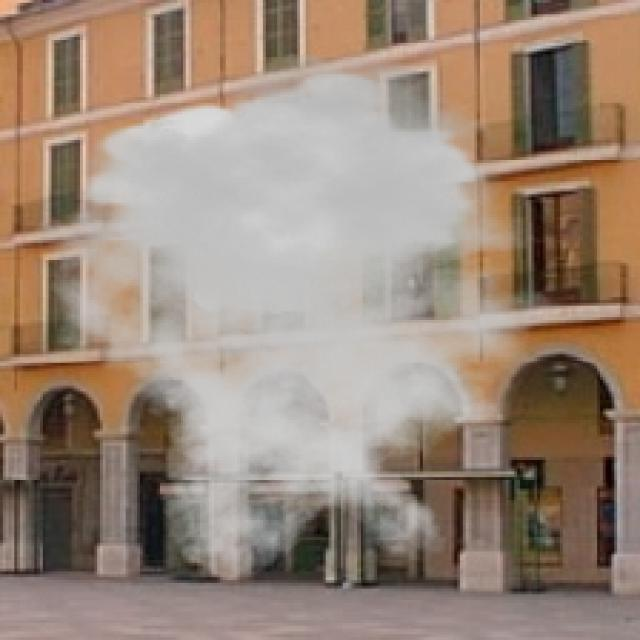Smoke: (26, 51, 592, 580)
